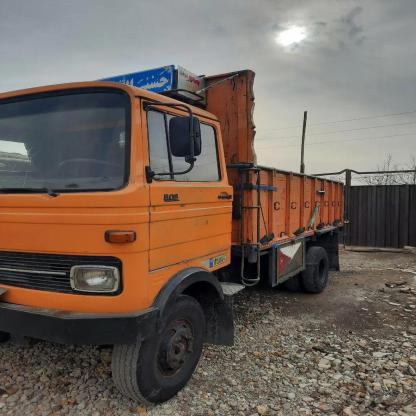Truck: (0, 69, 346, 409)
